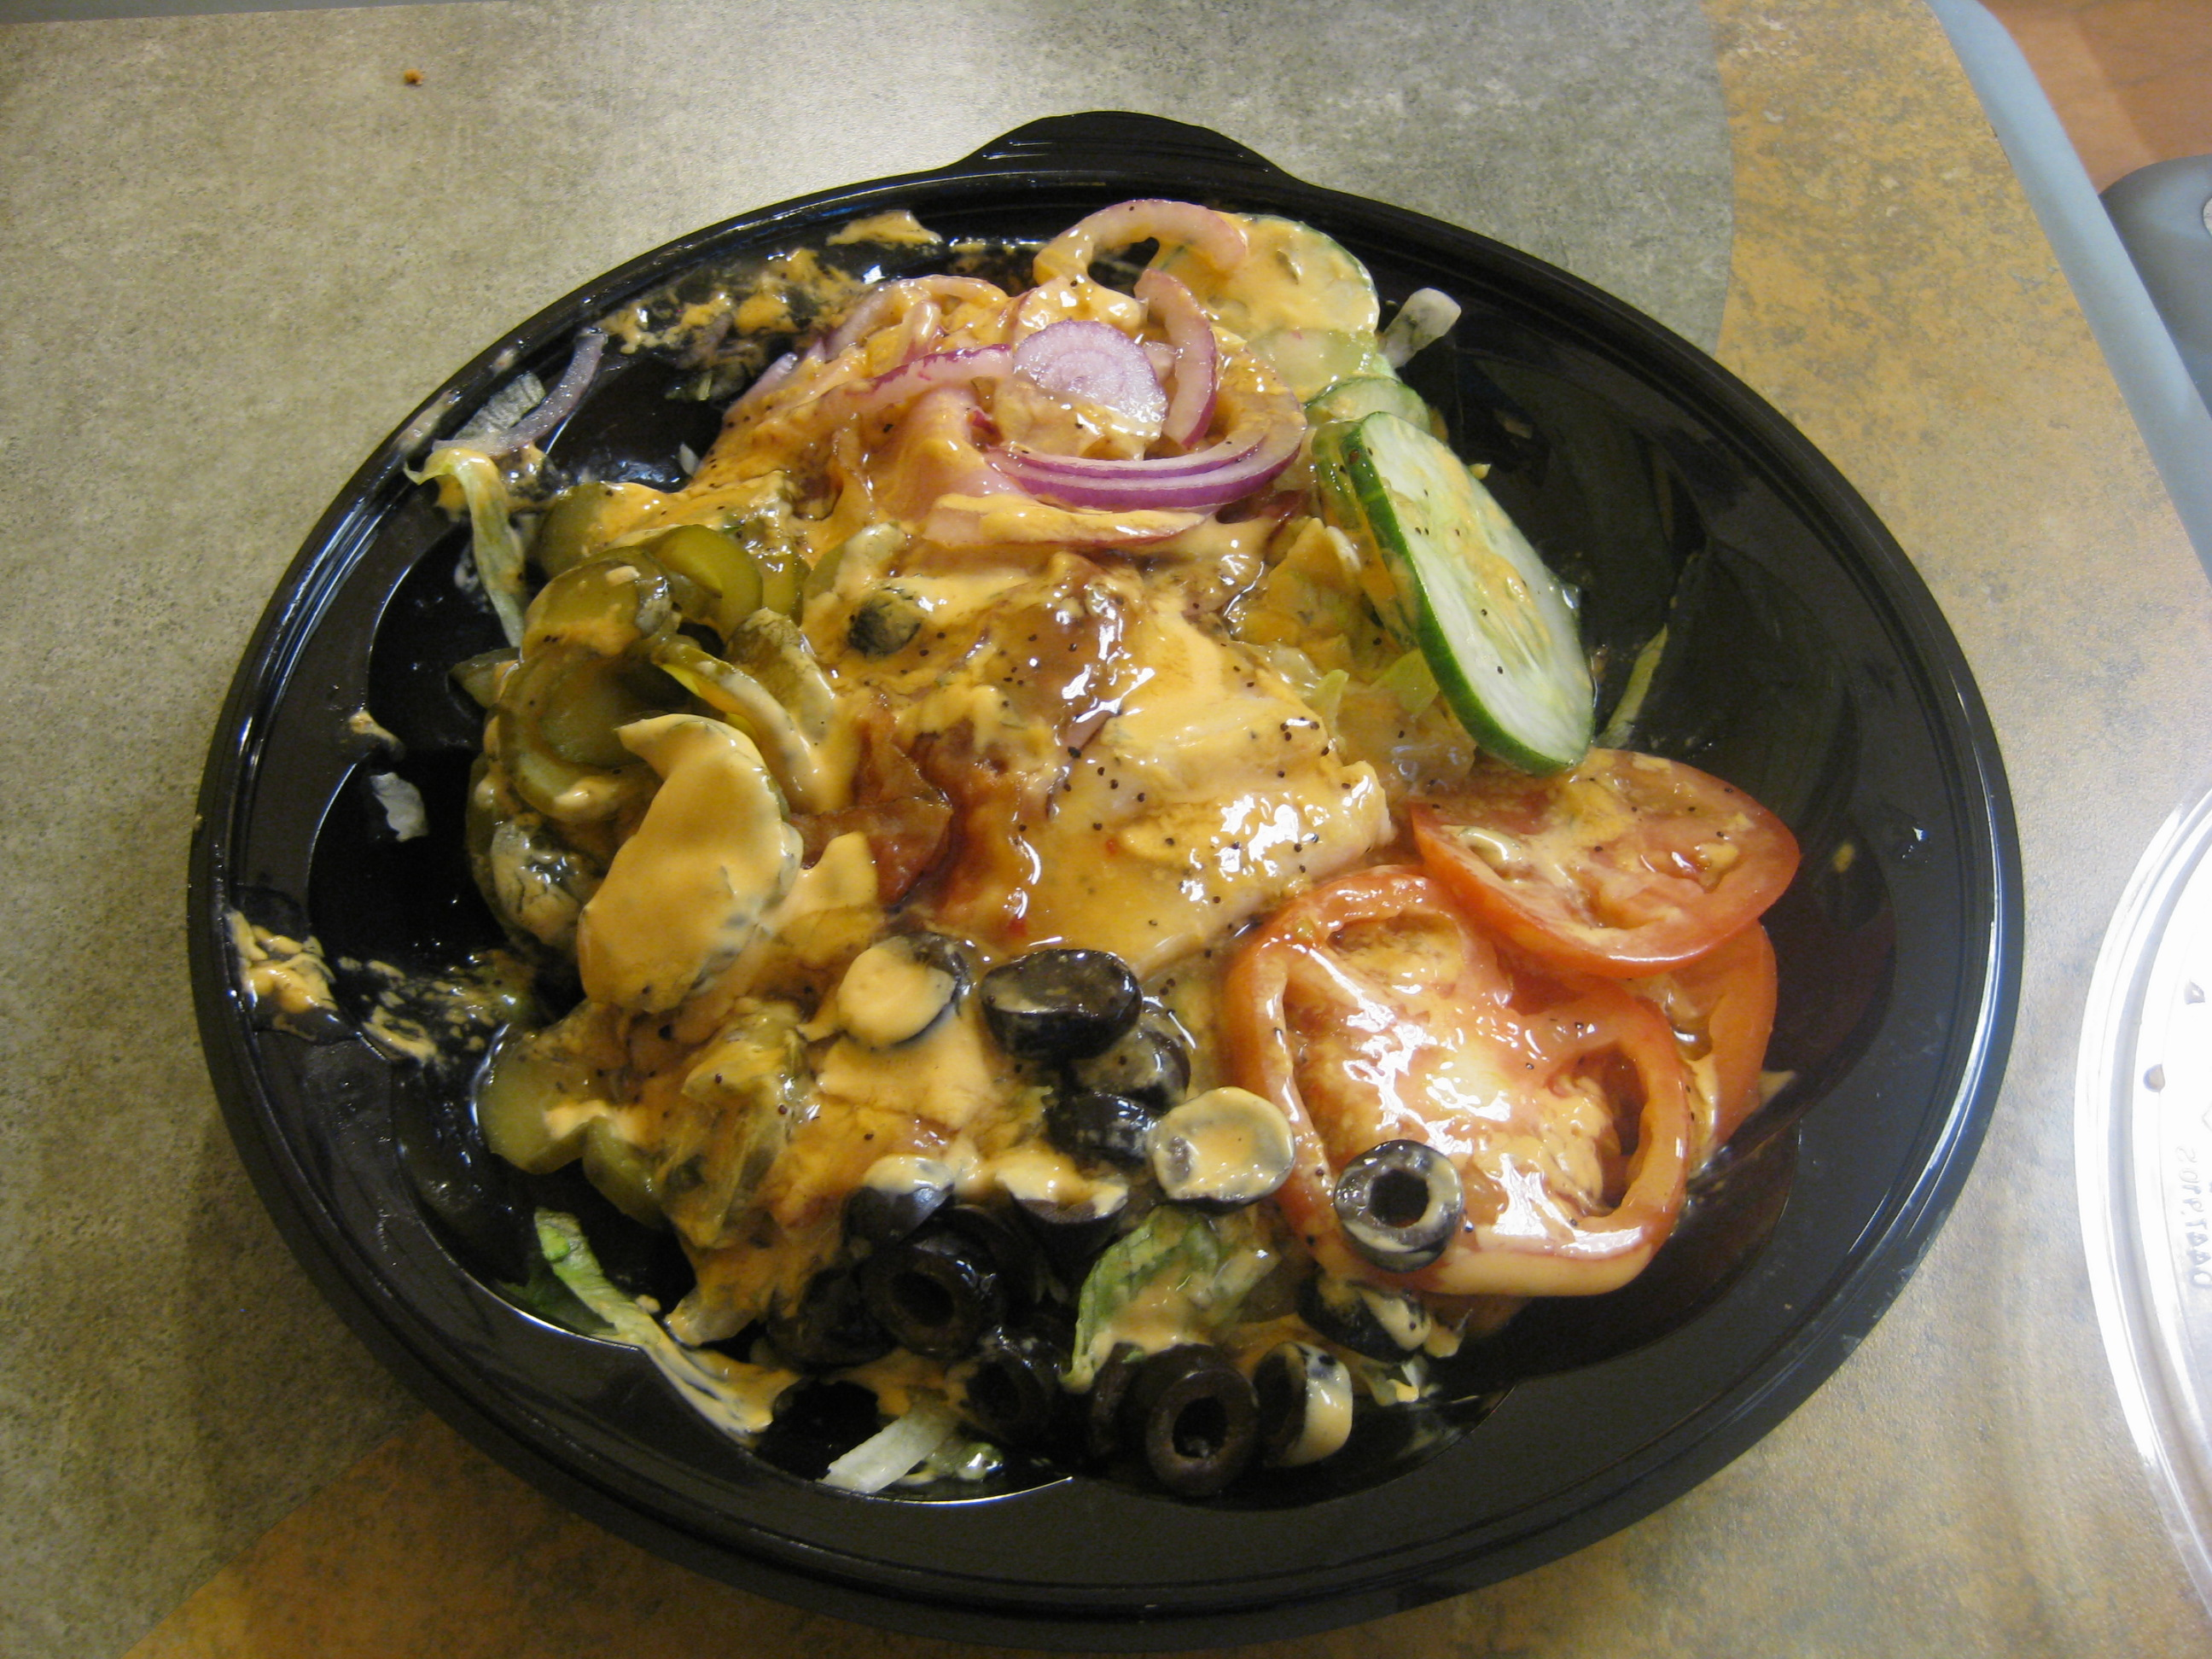salad: (373, 207, 1795, 1497)
